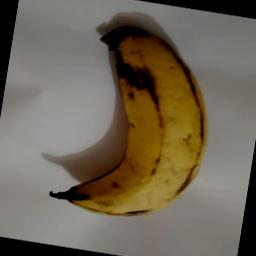Banana Unripe: (46, 15, 226, 234)
